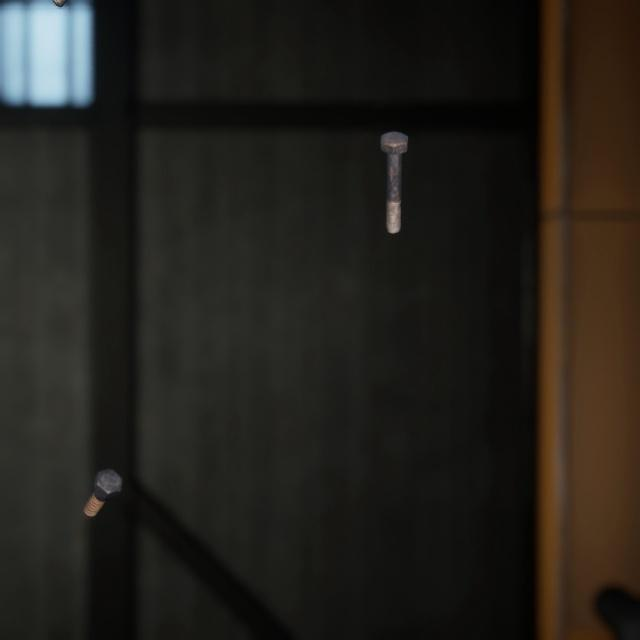bolt: (375, 113, 412, 224), (79, 443, 127, 500)
